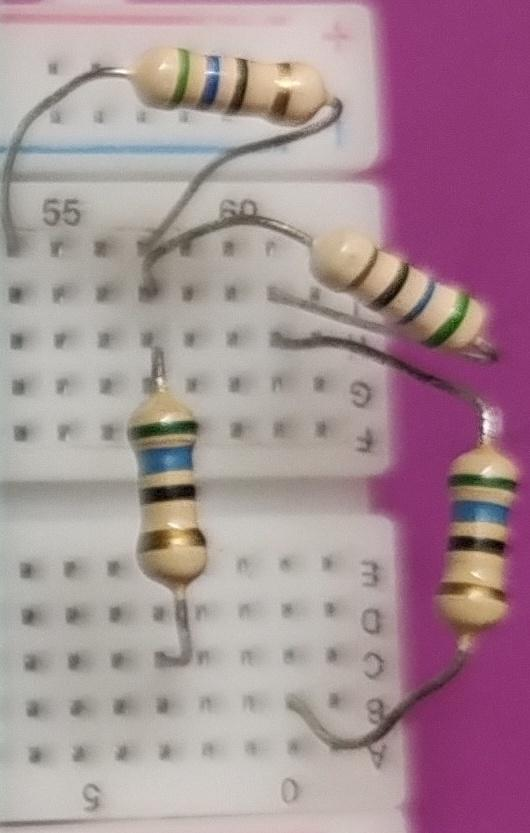resistor: (104, 386, 228, 592), (312, 236, 508, 362), (118, 34, 328, 136), (432, 446, 518, 646)
